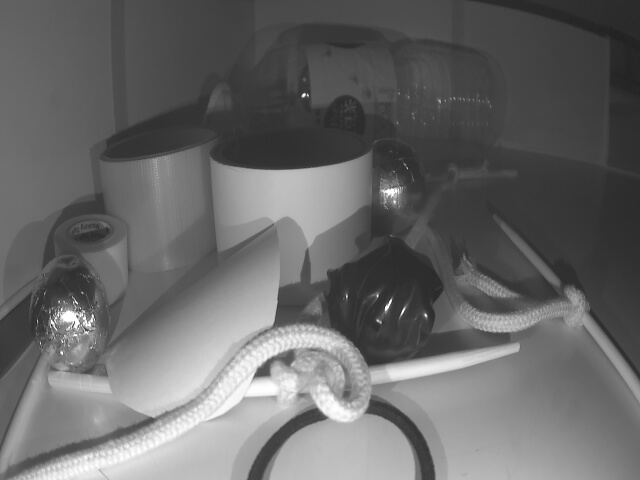Dead: (328, 234, 437, 360)
Live: (33, 259, 104, 372), (368, 135, 420, 240)
